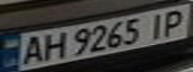2: (87, 21, 112, 53)
5: (121, 15, 148, 46)
6: (106, 19, 130, 49)
9: (69, 25, 93, 56)
A: (15, 33, 48, 66)
H: (36, 29, 69, 61)
I: (142, 10, 172, 39)
P: (157, 7, 193, 37)
